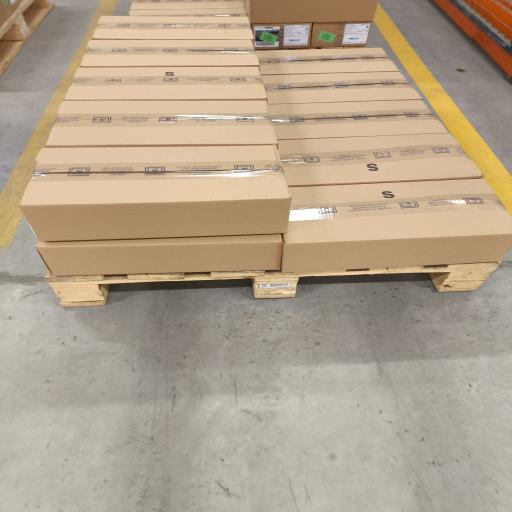pallet: (46, 263, 499, 306)
